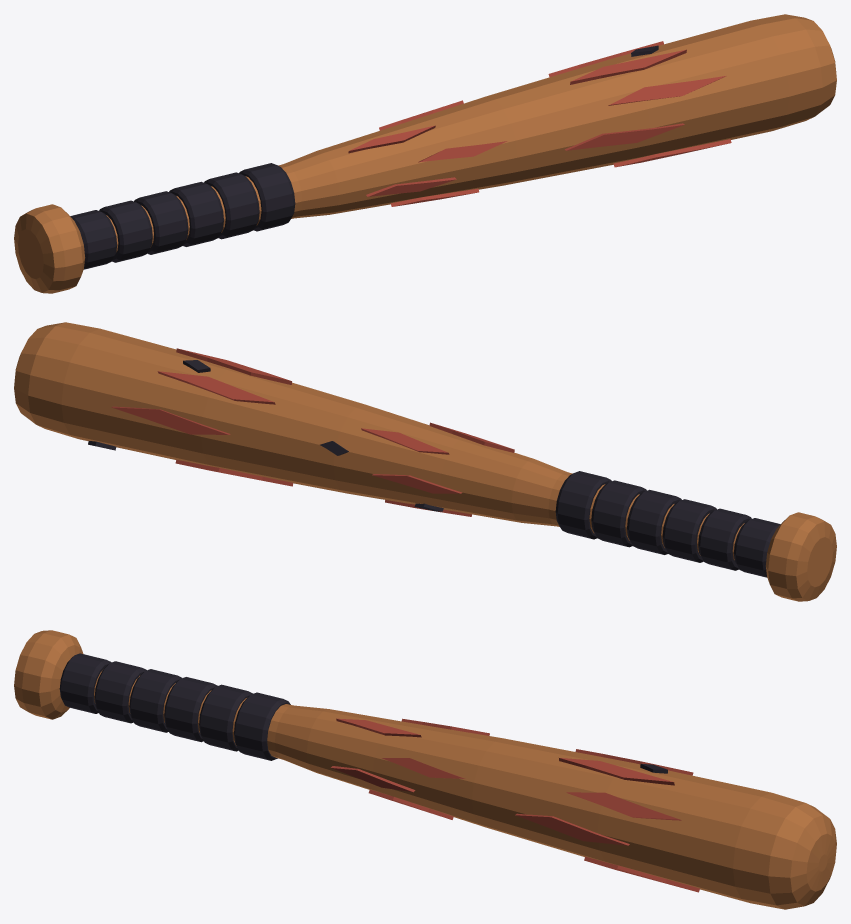
Rendered from wpn.baseball-bat.glb.
3 views of the same model, one above another, from view 1: azimuth 30°, elevation 25°; view 2: azimuth 150°, elevation 25°; view 3: azimuth 330°, elevation 25° (orthographic).
Size of the model in its own units: 0.922 by 0.114 by 0.1148.
